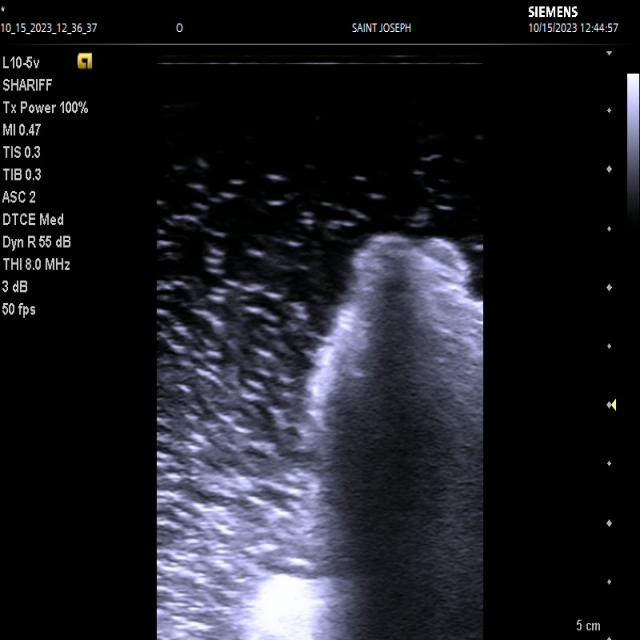tissue: (248, 233, 483, 640)
